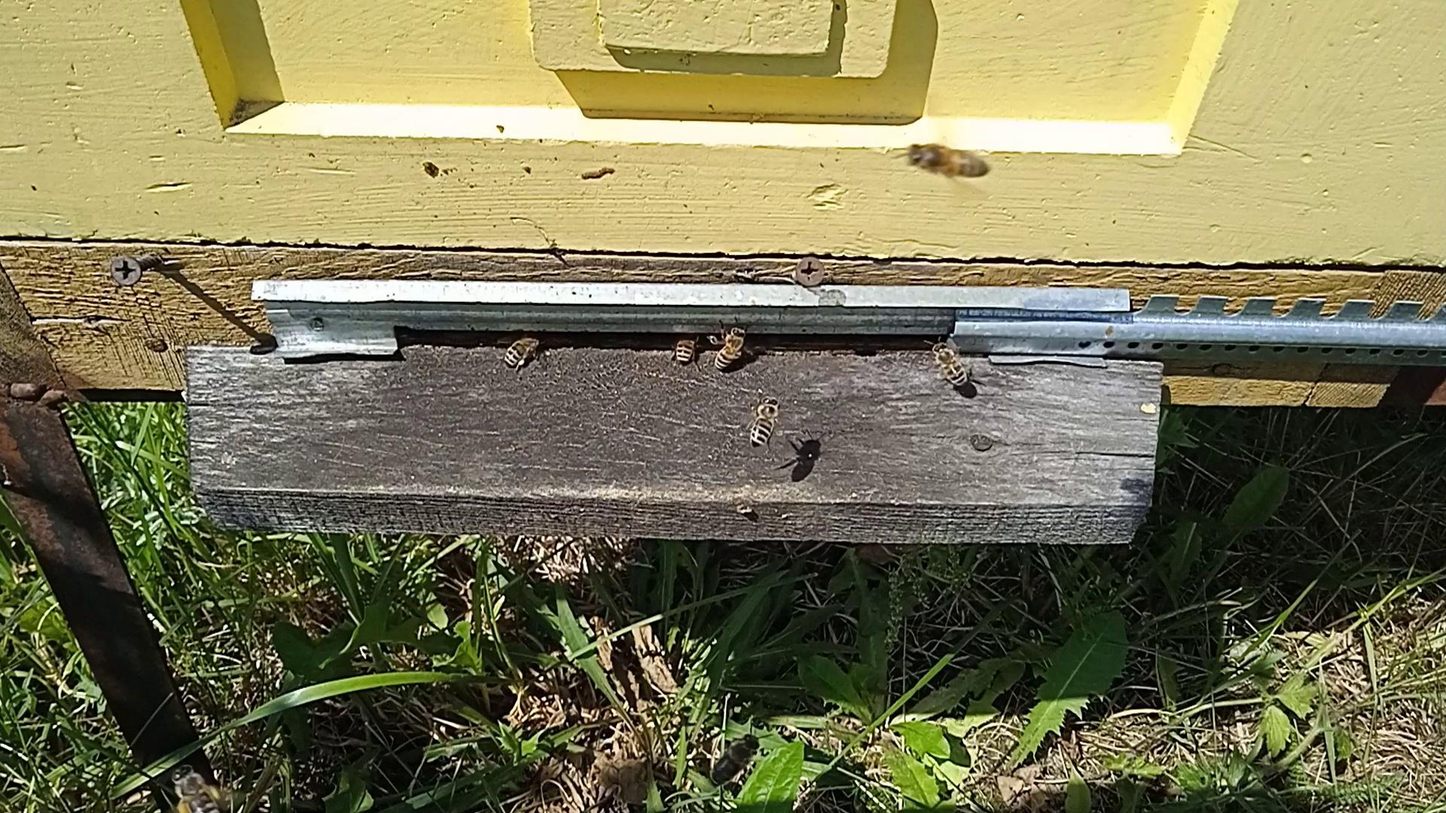worker-bee: (902, 141, 992, 185), (708, 734, 764, 787), (171, 765, 222, 813), (930, 342, 972, 388), (712, 324, 751, 370), (748, 396, 780, 449), (501, 333, 544, 369), (671, 334, 701, 364)
